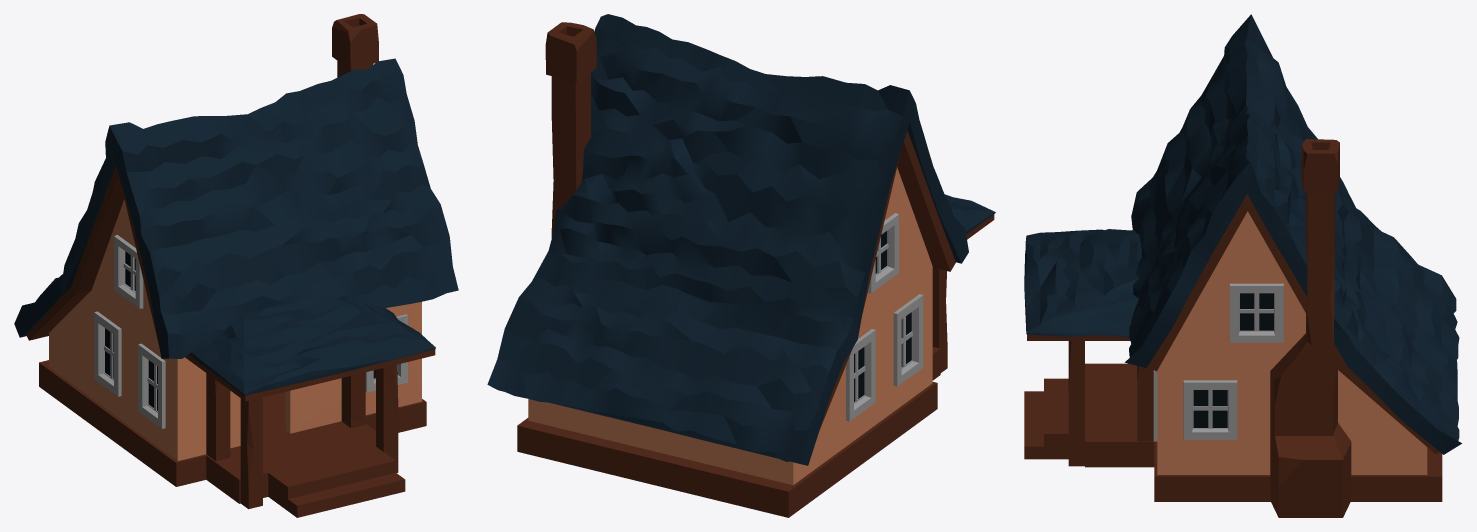
File: House_9.fbx
The picture shows the model from 3 angles, left to right: view 1: azimuth 30°, elevation 25°; view 2: azimuth 150°, elevation 25°; view 3: azimuth 270°, elevation 25°; orthographic projection. The views are drawn at different scales.
Parts seen in each view (by area): view 1: House_9; view 2: House_9; view 3: House_9.
Part boxes in pixels (<box>): House_9: <box>14,14,458,517</box>; House_9: <box>487,14,995,517</box>; House_9: <box>1024,14,1461,517</box>.
Bounding box in the file's own units: 190 × 203 × 224.
